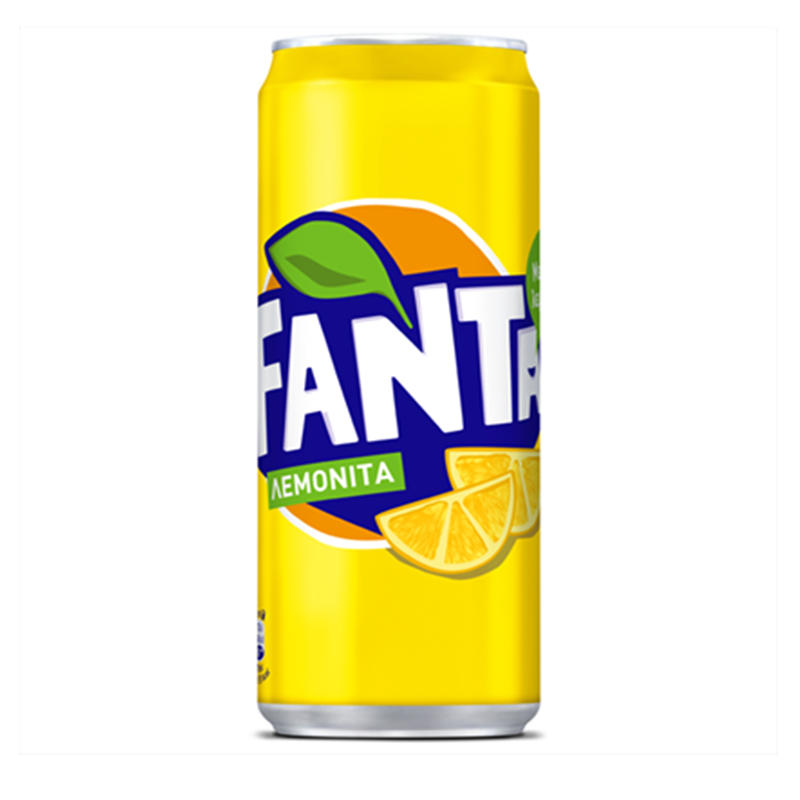Fanta: (182, 35, 598, 760)
